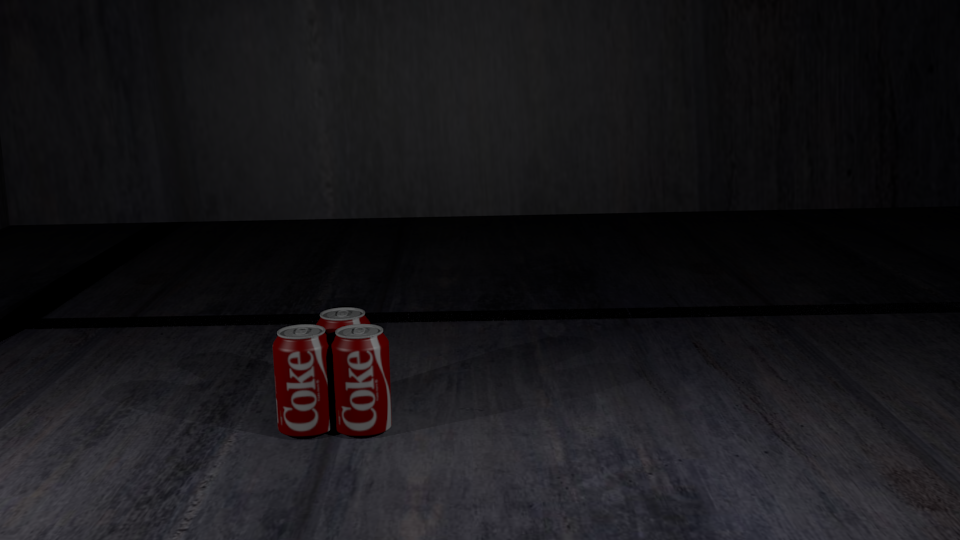cola_can: (273, 325, 332, 433), (331, 324, 390, 432), (316, 308, 369, 411)
